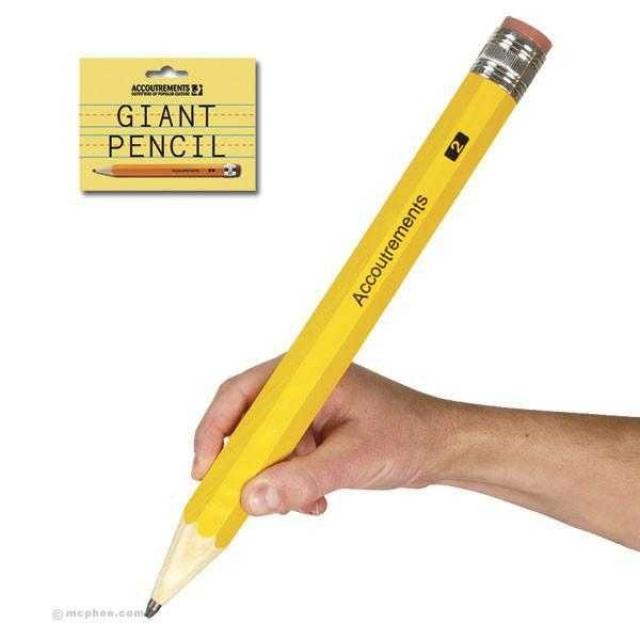pencil: (114, 1, 578, 627), (93, 161, 252, 189)
